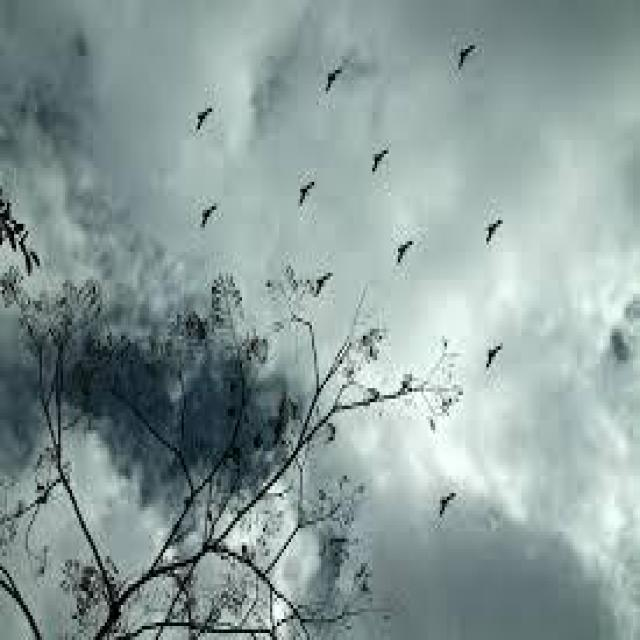bird: (482, 217, 504, 245), (315, 271, 333, 301), (458, 40, 477, 67), (439, 491, 457, 519), (486, 343, 502, 374), (397, 238, 414, 267), (372, 145, 388, 175), (298, 178, 314, 208), (200, 201, 215, 233), (326, 67, 342, 95), (196, 106, 213, 130)
